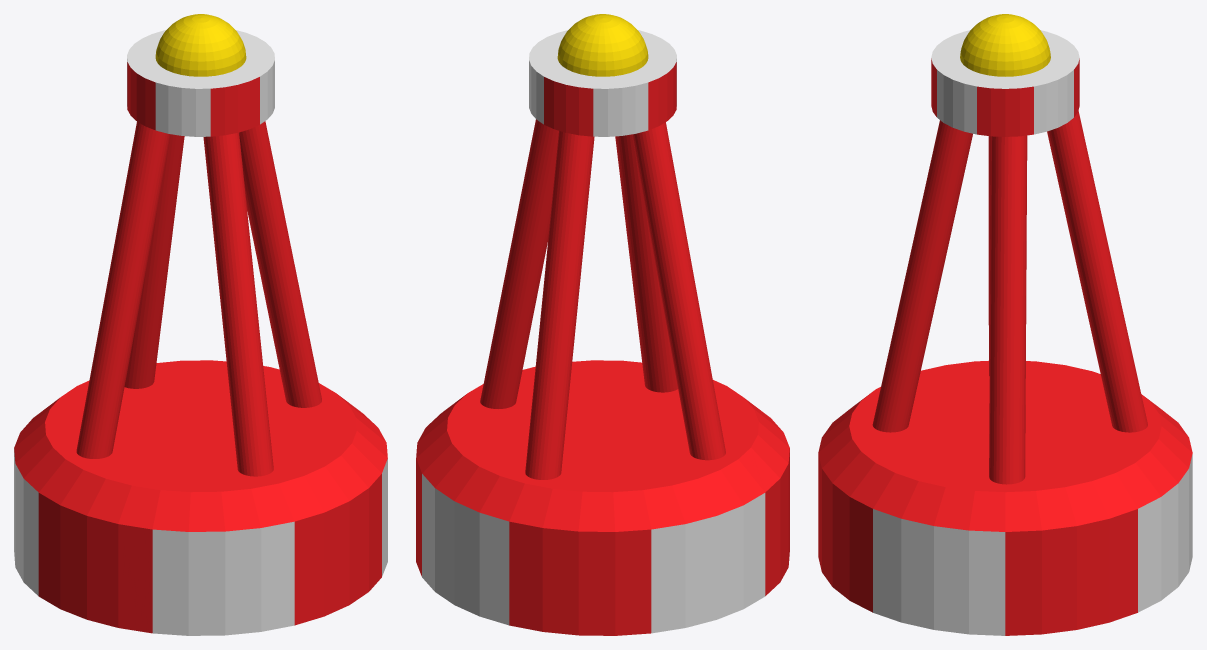
File: buoy.glb
The picture shows the model from 3 angles, left to right: view 1: azimuth 30°, elevation 25°; view 2: azimuth 150°, elevation 25°; view 3: azimuth 270°, elevation 25°; orthographic projection.
Visible parts, largest first — view 1: bottom, leg4, leg1, top, leg3, leg2, light; view 2: bottom, leg2, leg1, top, leg3, leg4, light; view 3: bottom, leg3, leg2, leg4, top, light, leg1.
Part boxes in pixels (x1,y1,x2,y2): bottom: (14, 360, 387, 635); leg4: (203, 132, 273, 476); leg1: (76, 121, 170, 458); top: (127, 30, 274, 136); leg3: (239, 121, 321, 407); leg2: (124, 134, 184, 388); light: (155, 14, 246, 76); bottom: (416, 360, 789, 635); leg2: (525, 131, 594, 479); leg1: (632, 122, 725, 460); top: (529, 30, 676, 136); leg3: (480, 119, 558, 408); leg4: (615, 134, 677, 392); light: (557, 14, 648, 76); bottom: (818, 360, 1192, 635); leg3: (989, 135, 1027, 484); leg2: (1047, 111, 1147, 432); leg4: (872, 120, 972, 432); top: (931, 30, 1079, 136); light: (960, 14, 1050, 76); leg1: (988, 136, 990, 375).
Bounding box in the file's own units: 2 × 3.17 × 2.
